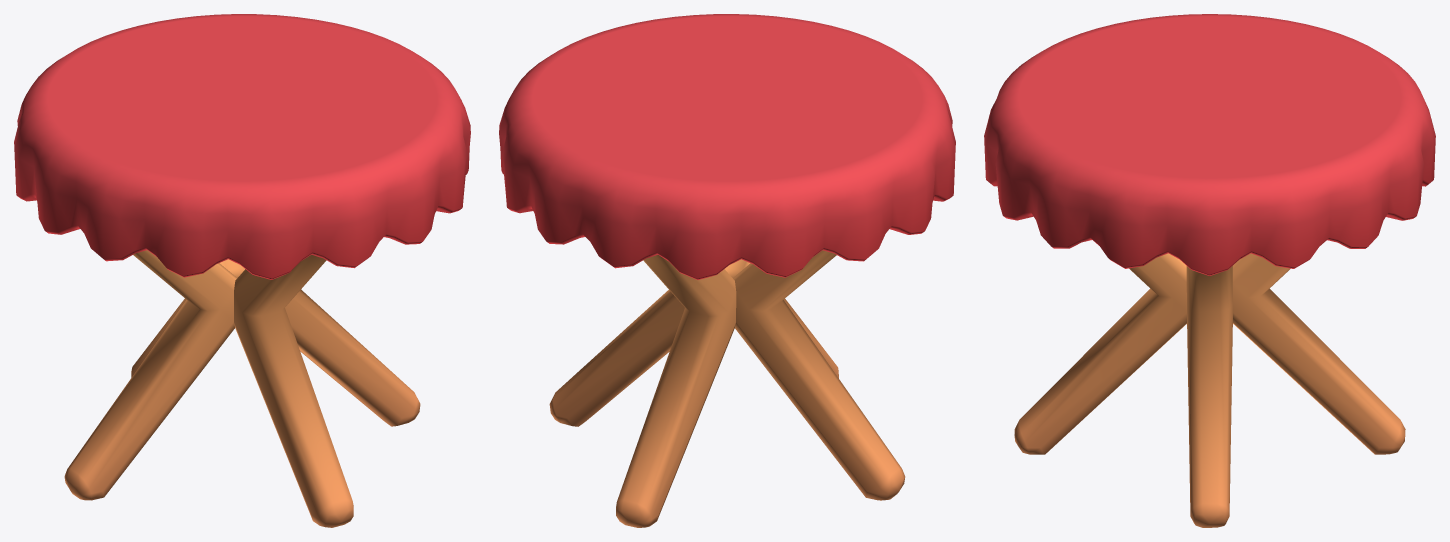
File: kitchen_d_06.glb
3 views of the same model, side by side, from view 1: azimuth 30°, elevation 25°; view 2: azimuth 150°, elevation 25°; view 3: azimuth 270°, elevation 25° (orthographic).
Parts seen in each view (by area): view 1: Kitchen_D_06; view 2: Kitchen_D_06; view 3: Kitchen_D_06.
Part boxes in pixels (x1,y1,x2,y2): Kitchen_D_06: (14,14,470,527); Kitchen_D_06: (499,14,955,527); Kitchen_D_06: (984,14,1435,527).
Bounding box in the file's own units: 0.8673 × 0.7498 × 0.8673.
Materials: 1 (1 with a texture image).
